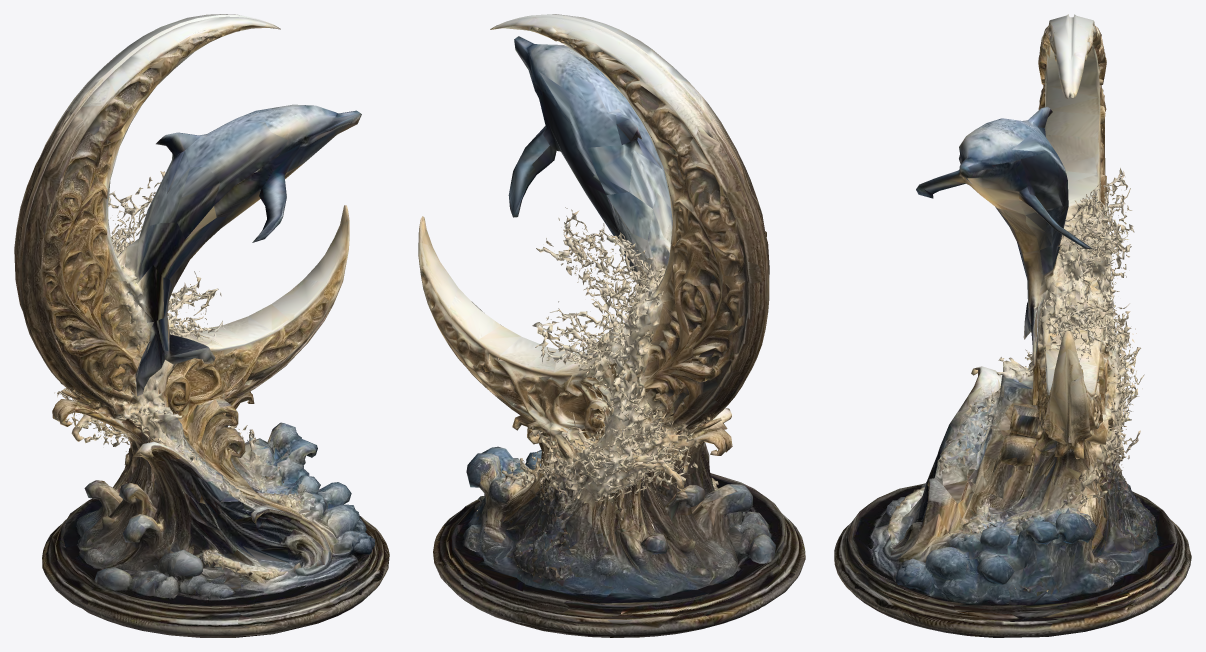
Rendered from Golden_Crescent_Dolph.glb.
The picture shows the model from 3 angles, left to right: view 1: azimuth 30°, elevation 25°; view 2: azimuth 150°, elevation 25°; view 3: azimuth 270°, elevation 25°; orthographic projection. The views are drawn at different scales.
Visible parts, largest first — view 1: Golden_Crescent_Dolph; view 2: Golden_Crescent_Dolph; view 3: Golden_Crescent_Dolph.
Boxes of the visible parts, <box> form: Golden_Crescent_Dolph: <box>14,14,389,637</box>; Golden_Crescent_Dolph: <box>418,14,805,637</box>; Golden_Crescent_Dolph: <box>834,14,1191,637</box>.
Bounding box in the file's own units: 1.23 × 1.9 × 1.13.
Materials: 1 (1 with a texture image).
